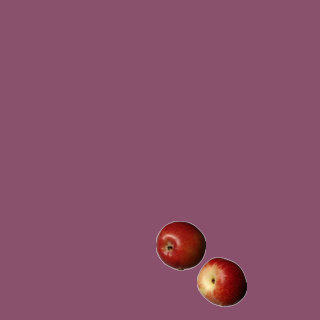Apple Braeburn: (155, 220, 205, 270)
Nectarine: (196, 256, 246, 306)
